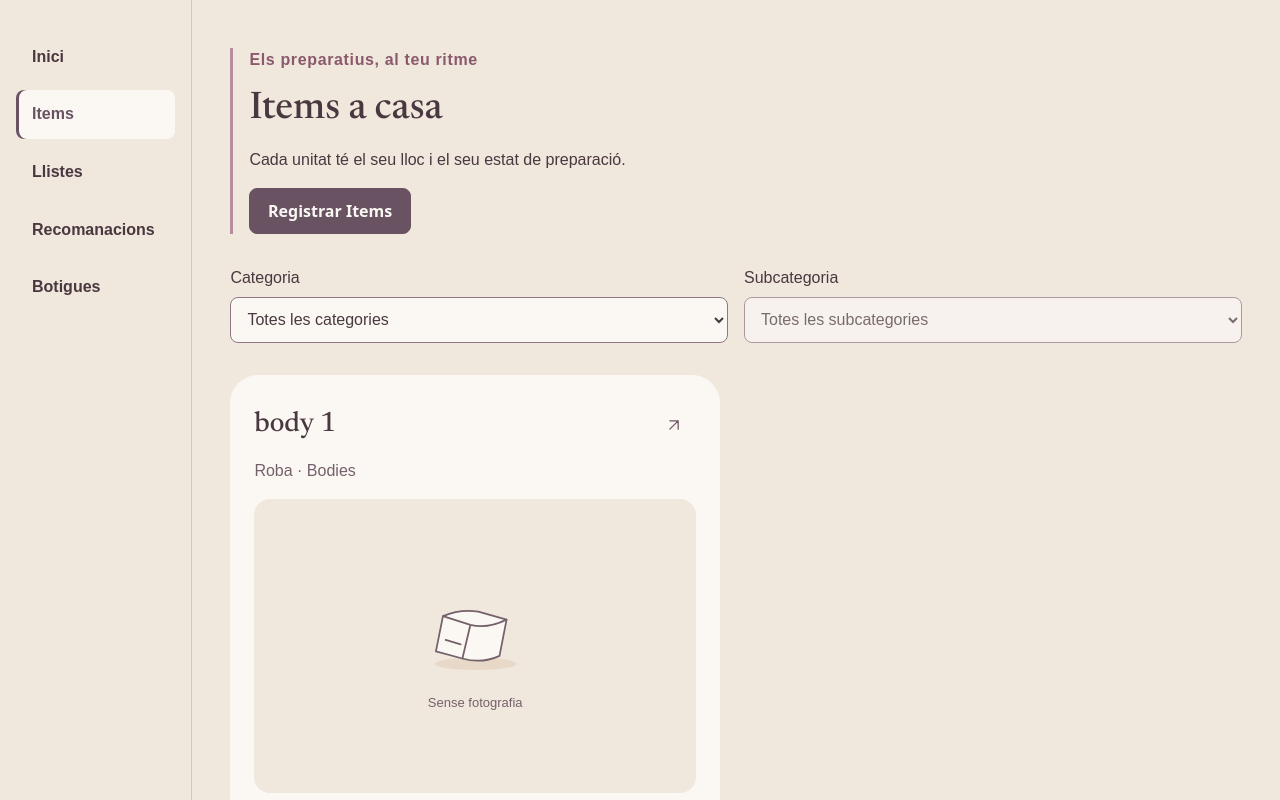
Test: detall des de targeta individual mostra nom original, null i classificació
What coordinates should you click on to do the following:
click the link with aria-label "Veure el detall de body 1 (Item 1)"
I would click on:
 (295, 424)
Its box is [254, 403, 696, 447].
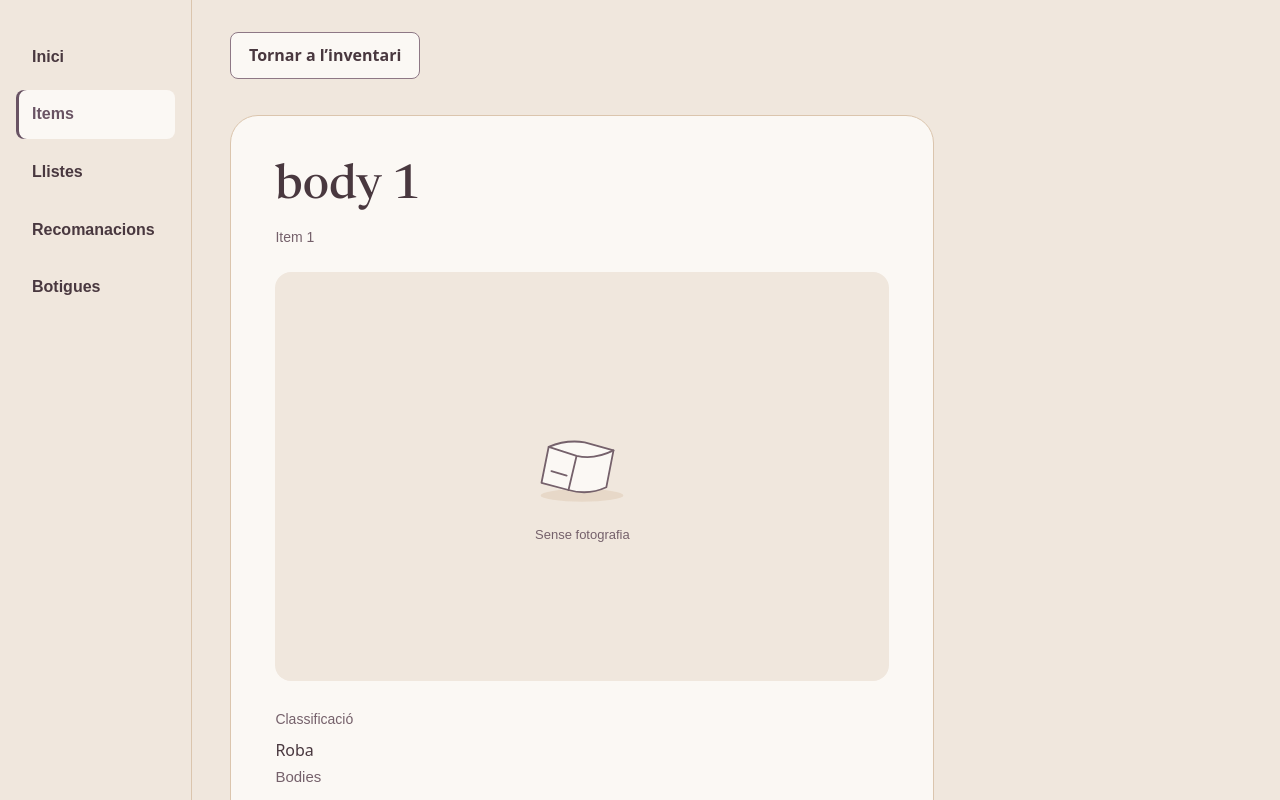
Expected: the text "Roba" is shown, [275, 739, 314, 761]
Result: the heading "body 1" is shown at [275, 163, 420, 211]
